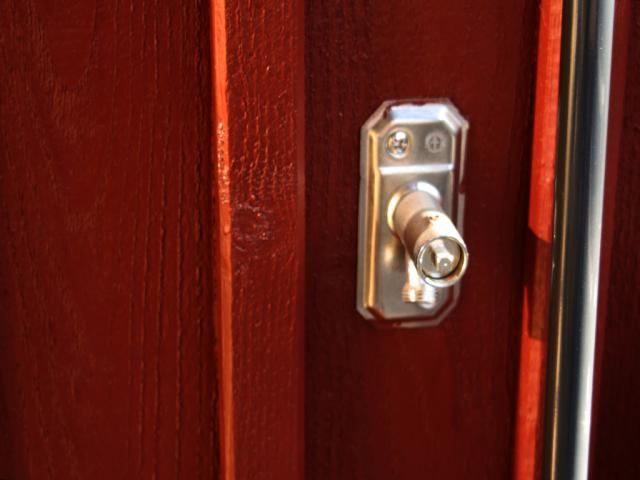Door-handle: (356, 96, 471, 328)
